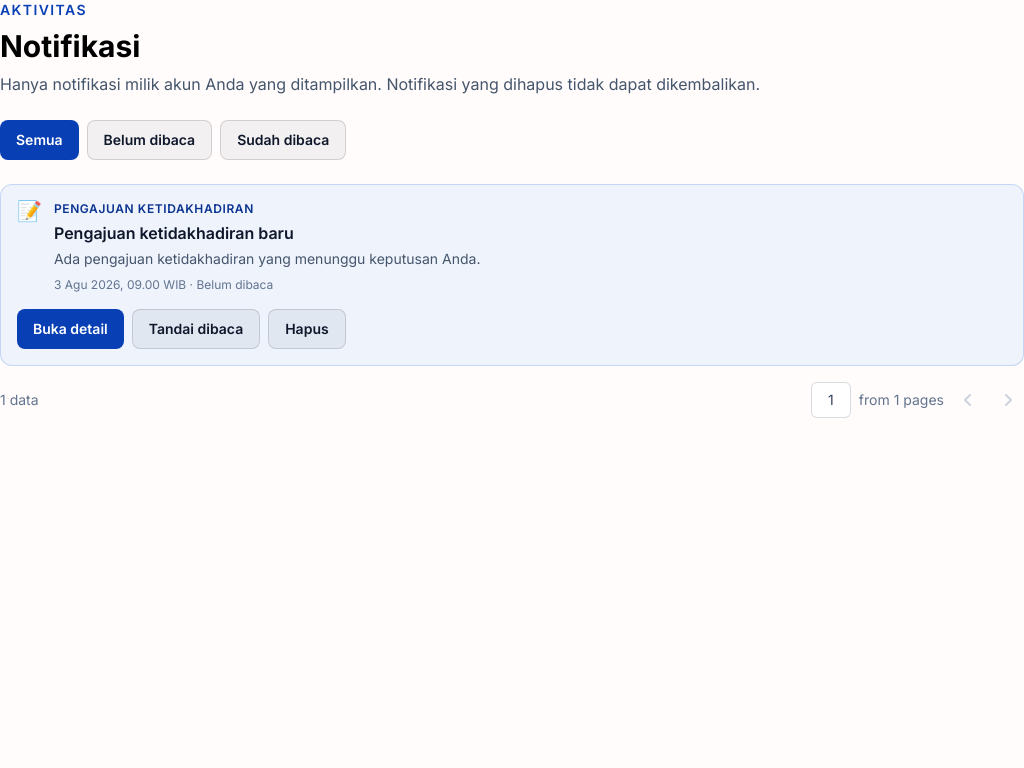
NotificationsPage › explains a forbidden dismiss without leaving the row in a fake state
Click the button "Hapus": (307, 329) [268,309,346,349]
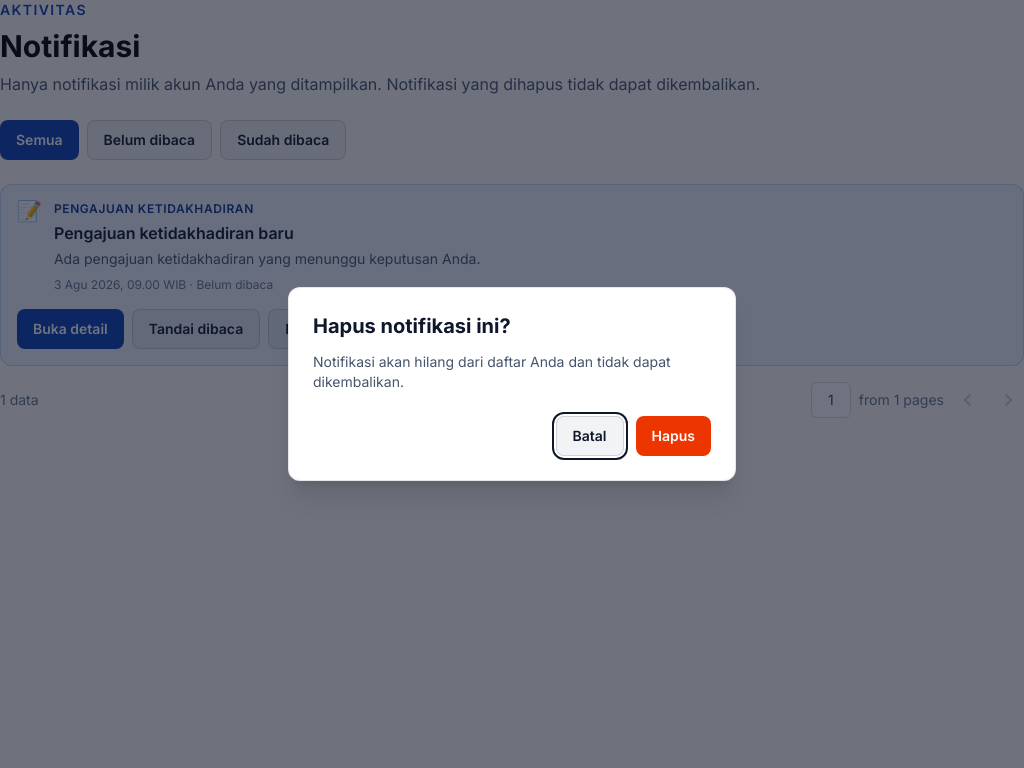
Click the button "Hapus": (673, 436) [636,416,711,456]
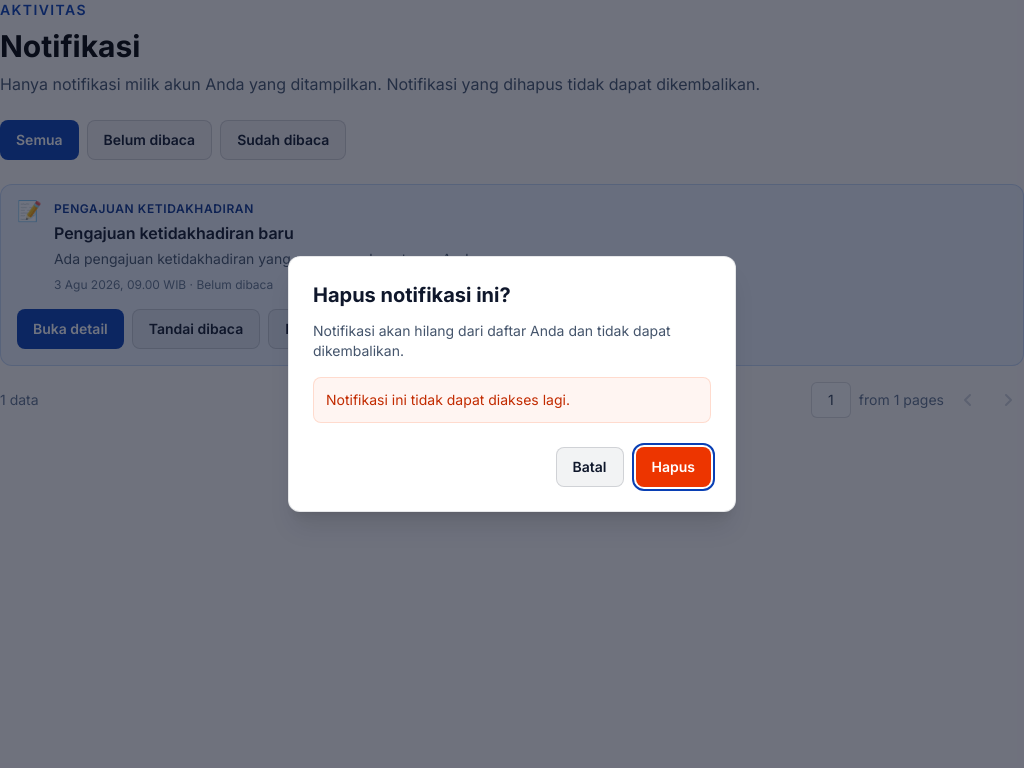
Expected: the text "Pengajuan ketidakhadiran baru" is shown, [54,223,294,243]
Now the text "Notifikasi ini tidak dapat diakses lagi." is shown once, box [313,377,711,423]
